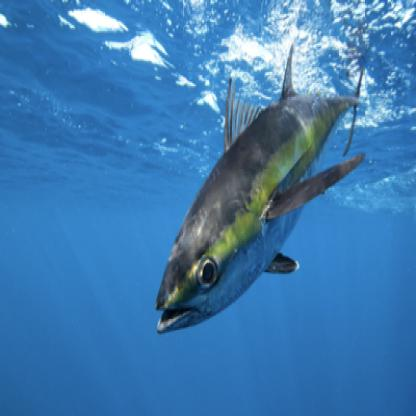tuna: (151, 43, 373, 339)
